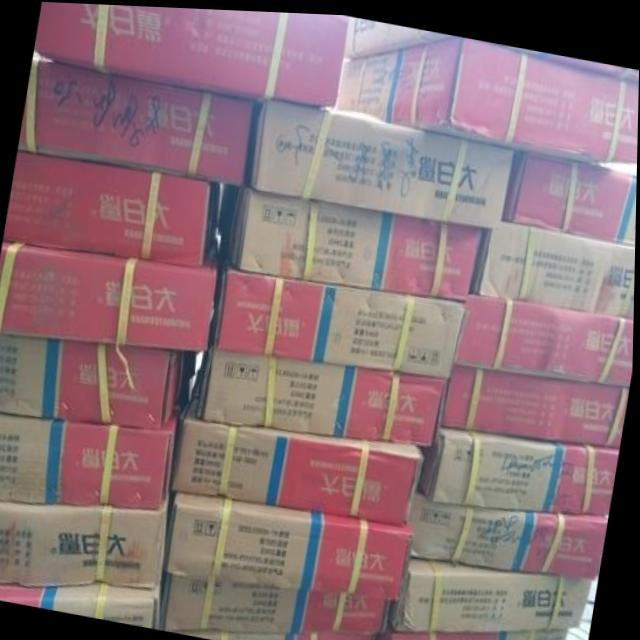box: (337, 31, 639, 157), (174, 380, 428, 523), (246, 98, 515, 225), (34, 1, 348, 103), (210, 249, 466, 373), (218, 183, 482, 296), (18, 59, 252, 183), (166, 490, 415, 597), (0, 236, 218, 350), (202, 342, 449, 442), (4, 151, 220, 264), (0, 403, 184, 506), (0, 335, 197, 426), (418, 421, 621, 509), (411, 485, 610, 574), (390, 547, 592, 629), (455, 290, 635, 381), (438, 360, 631, 442), (0, 496, 173, 587), (473, 217, 636, 310), (162, 573, 389, 633), (505, 145, 637, 239), (0, 557, 165, 628), (481, 37, 639, 74), (344, 15, 449, 52), (378, 620, 571, 640), (176, 625, 378, 640)
